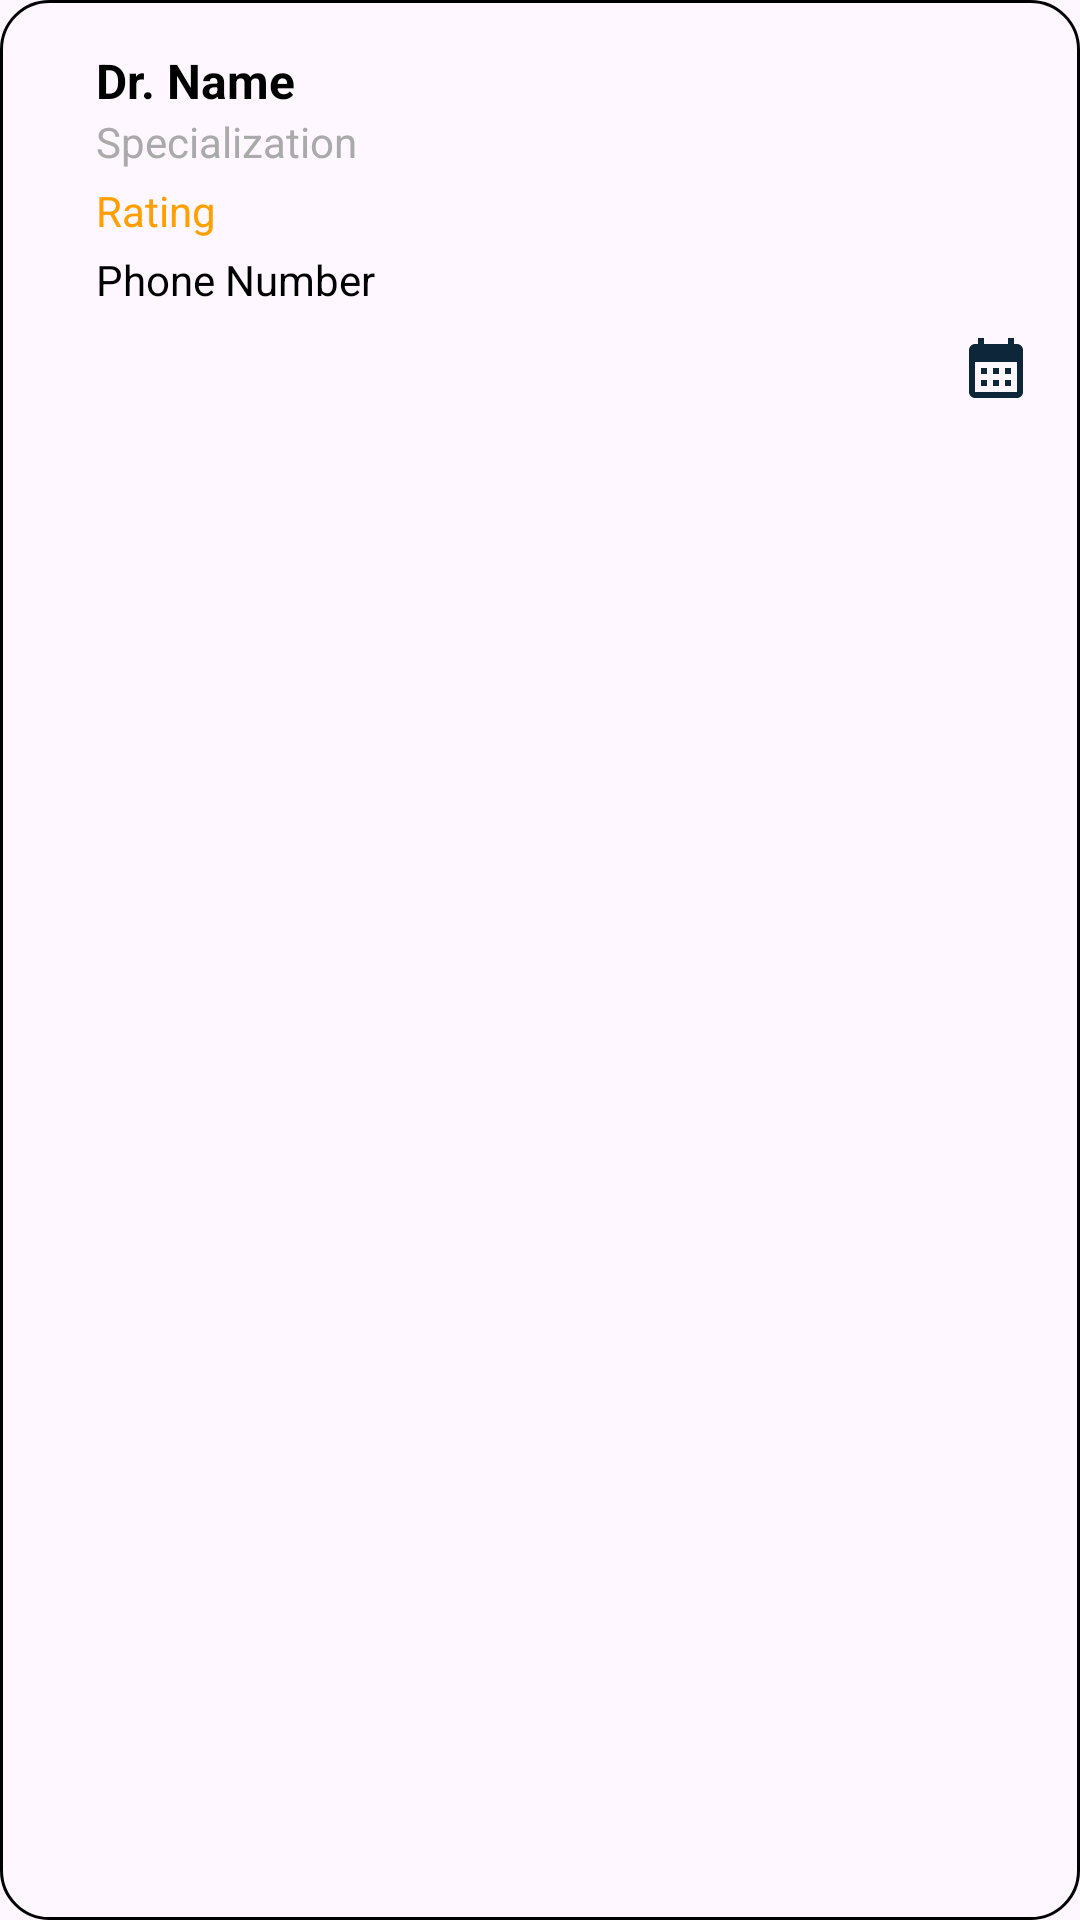

Named icons in this screenshot (1080w x 1920h) and their centers, (x=x, y=y):
appointment: (x=996, y=368)
